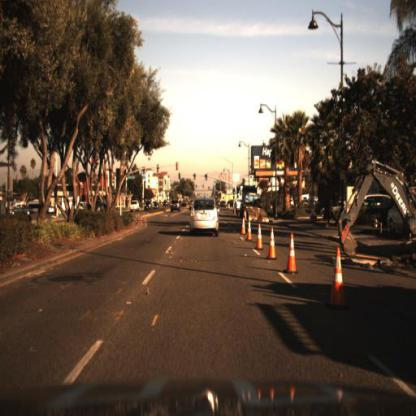car: (188, 194, 221, 239), (239, 179, 268, 226), (311, 193, 349, 228), (170, 195, 182, 216), (234, 197, 246, 218), (129, 199, 141, 215), (130, 200, 140, 212), (154, 201, 162, 211)
truck: (240, 185, 268, 219)
